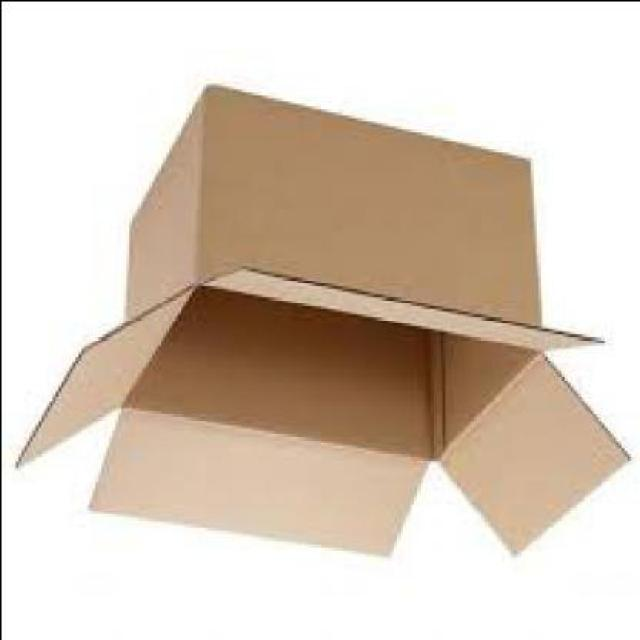CARDBOARD: (11, 88, 626, 558)
